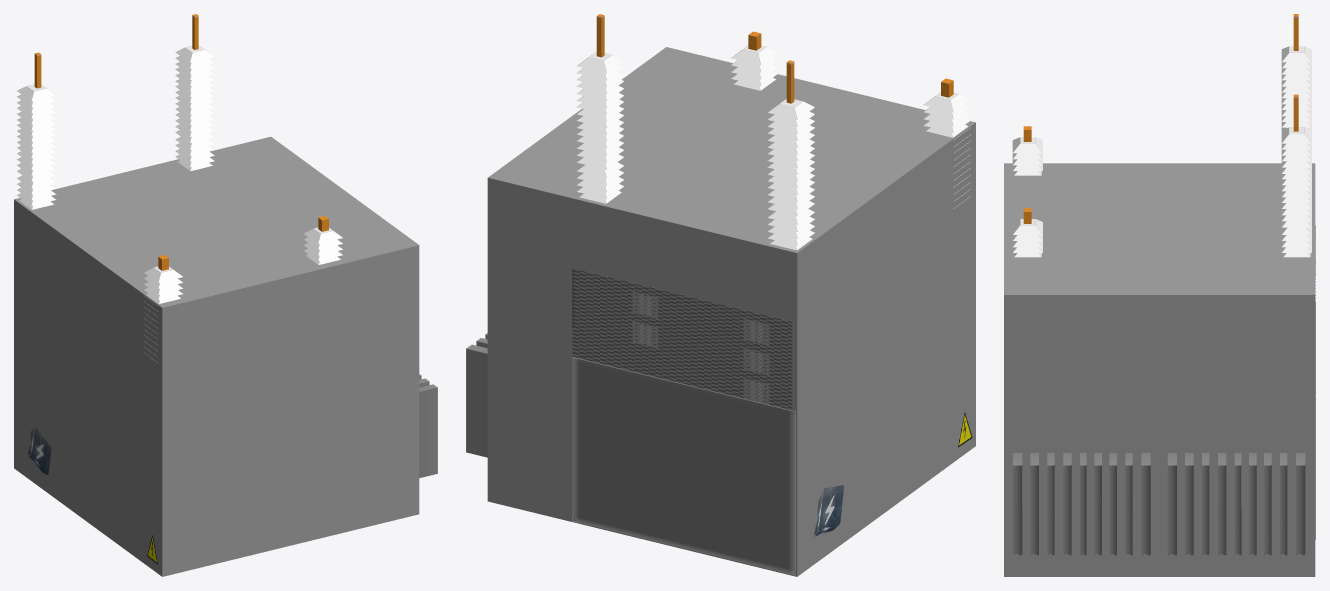
Rendered from GridConverter.obj.
3 renders of one model, left to right at view 1: azimuth 30°, elevation 25°; view 2: azimuth 150°, elevation 25°; view 3: azimuth 270°, elevation 25°, orthographic. The views are drawn at different scales.
Parts seen in each view (by area): view 1: TransparentNode.006_Cube.007, Main_Block_Cube, TransparentNode.005_Cube.006, TransparentNode.003_Cube.004, TransparentNode_Cube.001, TransparentNode.002_Cube.003, TransparentNode.004_Cube.005, Cube.043_Cube.015, Cube.044_Cube.048, Cube_Cube.008, Cube.040_Cube.011, Cube.041_Cube.012 (+3 smaller); view 2: TransparentNode.003_Cube.004, Cube.001_Cube.009, TransparentNode.004_Cube.005, TransparentNode.006_Cube.007, Main_Block_Cube, TransparentNode.001_Cube.002, TransparentNode.002_Cube.003, Cube.036_Cube.051, TransparentNode.005_Cube.006, Cube.043_Cube.015, Cube.044_Cube.048, Cube.002_Cube.010 (+5 smaller); view 3: TransparentNode.004_Cube.005, TransparentNode.005_Cube.006, TransparentNode_Cube.001, TransparentNode.001_Cube.002, TransparentNode.006_Cube.007, TransparentNode.003_Cube.004, Cube.002_Cube.010, Cube_Cube.008, Cube.043_Cube.015, Cube.044_Cube.048, Cube.041_Cube.012, Cube.040_Cube.011 (+1 smaller).
Boxes of the visible parts, <box> form: TransparentNode.006_Cube.007: <box>88,222,290,442</box>; Main_Block_Cube: <box>88,388,290,576</box>; TransparentNode.005_Cube.006: <box>217,191,419,410</box>; TransparentNode.003_Cube.004: <box>14,168,216,387</box>; TransparentNode_Cube.001: <box>291,380,419,545</box>; TransparentNode.002_Cube.003: <box>14,334,88,522</box>; TransparentNode.004_Cube.005: <box>143,136,344,221</box>; Cube.043_Cube.015: <box>175,45,214,142</box>; Cube.044_Cube.048: <box>17,84,56,181</box>; Cube_Cube.008: <box>419,374,437,478</box>; Cube.040_Cube.011: <box>144,266,182,362</box>; Cube.041_Cube.012: <box>303,227,342,264</box>; TransparentNode.003_Cube.004: <box>642,150,886,414</box>; Cube.001_Cube.009: <box>572,357,795,575</box>; TransparentNode.004_Cube.005: <box>487,112,731,373</box>; TransparentNode.006_Cube.007: <box>732,84,975,349</box>; Main_Block_Cube: <box>886,284,975,510</box>; TransparentNode.001_Cube.002: <box>487,339,642,538</box>; TransparentNode.002_Cube.003: <box>642,350,886,576</box>; Cube.036_Cube.051: <box>572,269,794,409</box>; TransparentNode.005_Cube.006: <box>577,47,820,149</box>; Cube.043_Cube.015: <box>576,51,624,169</box>; Cube.044_Cube.048: <box>767,99,814,216</box>; Cube.002_Cube.010: <box>466,333,487,457</box>; TransparentNode.004_Cube.005: <box>1159,229,1315,435</box>; TransparentNode.005_Cube.006: <box>1004,229,1159,435</box>; TransparentNode_Cube.001: <box>1004,436,1159,576</box>; TransparentNode.001_Cube.002: <box>1159,436,1315,576</box>; TransparentNode.006_Cube.007: <box>1004,163,1159,228</box>; TransparentNode.003_Cube.004: <box>1159,163,1315,228</box>; Cube.002_Cube.010: <box>1167,453,1305,555</box>; Cube_Cube.008: <box>1013,453,1150,555</box>; Cube.043_Cube.015: <box>1281,127,1311,227</box>; Cube.044_Cube.048: <box>1281,46,1311,130</box>; Cube.041_Cube.012: <box>1012,219,1042,257</box>; Cube.040_Cube.011: <box>1012,137,1042,175</box>.
Bounding box in the file's own units: 2.18 × 3.1 × 2.
13 materials, 11 textured.
